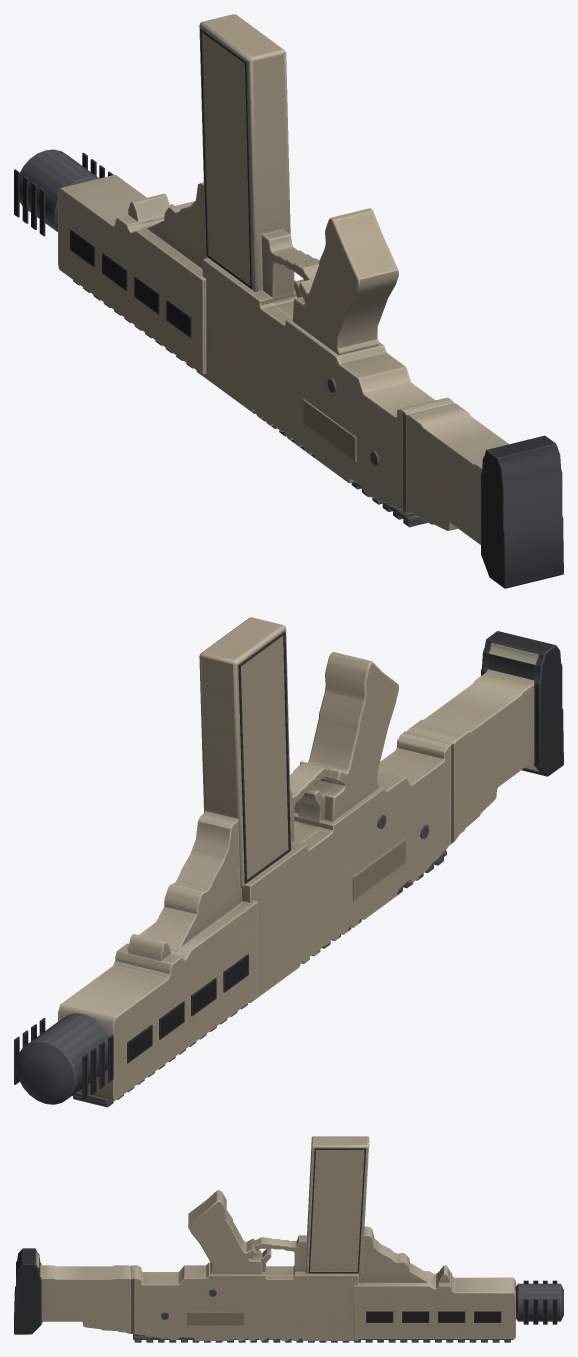
3 views of the same model, one above another, from view 1: azimuth 30°, elevation 25°; view 2: azimuth 150°, elevation 25°; view 3: azimuth 270°, elevation 25° (orthographic). The views are drawn at different scales.
Parts seen in each view (by area): view 1: AT_MX4_export; view 2: AT_MX4_export; view 3: AT_MX4_export.
Boxes of the visible parts, x1,y1,x2,y2 form: AT_MX4_export: (14, 14, 563, 588); AT_MX4_export: (14, 617, 563, 1107); AT_MX4_export: (14, 1136, 563, 1342).
Bounding box in the file's own units: 0.0376 × 0.4599 × 0.1822.
